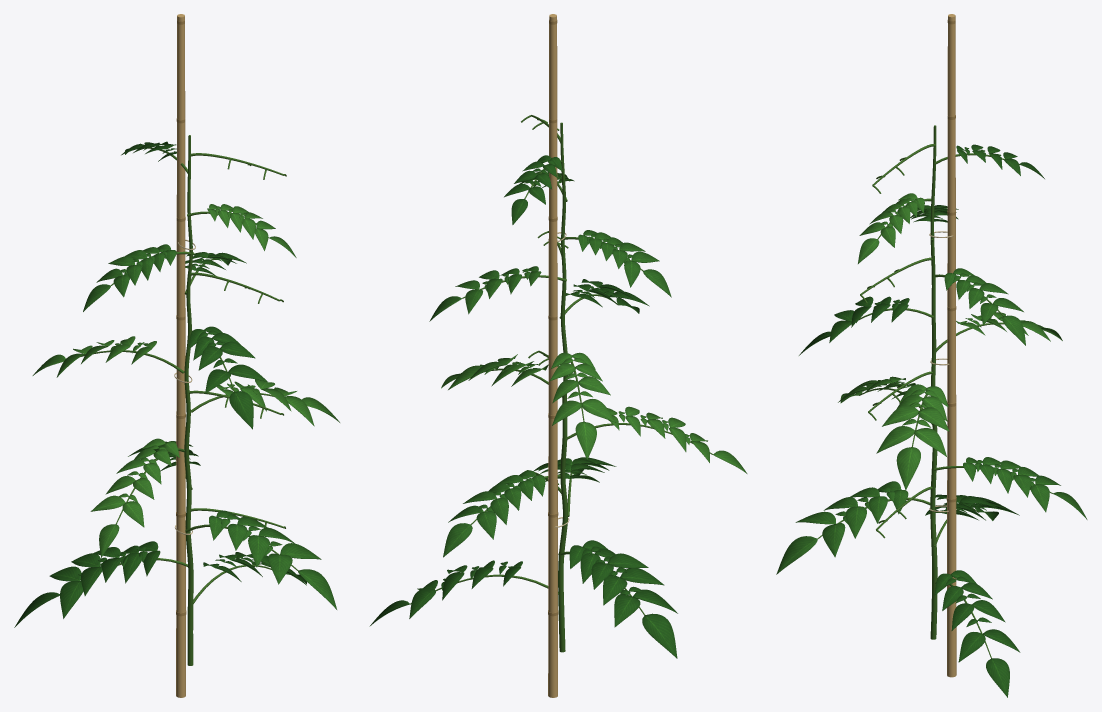
File: tomato_plant_a.glb
3 renders of one model, left to right at view 1: azimuth 30°, elevation 25°; view 2: azimuth 150°, elevation 25°; view 3: azimuth 270°, elevation 25°, orthographic. The views are drawn at different scales.
Parts seen in each view (by area): view 1: stake, stem, leaflet.077, leaflet.028, leaflet.017; view 2: stake, stem, leaflet.019; view 3: stake, stem, leaflet.059, leaflet.028, leaflet.008, leaflet.026.
Boxes of the visible parts, x1=… form: stake: x1=176, y1=14, x2=185, y2=697; stem: x1=184, y1=135, x2=193, y2=665; leaflet.077: x1=229, y1=391, x2=253, y2=429; leaflet.028: x1=298, y1=569, x2=336, y2=609; leaflet.017: x1=60, y1=581, x2=83, y2=618; stake: x1=548, y1=14, x2=557, y2=697; stem: x1=558, y1=122, x2=567, y2=652; leaflet.019: x1=642, y1=613, x2=677, y2=658; stake: x1=947, y1=14, x2=956, y2=677; stem: x1=930, y1=125, x2=937, y2=639; leaflet.059: x1=896, y1=447, x2=920, y2=490; leaflet.028: x1=776, y1=536, x2=817, y2=574; leaflet.008: x1=986, y1=658, x2=1009, y2=697; leaflet.026: x1=822, y1=523, x2=845, y2=557.
Size of the model in its own units: 0.8302 by 1.8 by 0.7677.
Materials: 7 (3 with a texture image).
